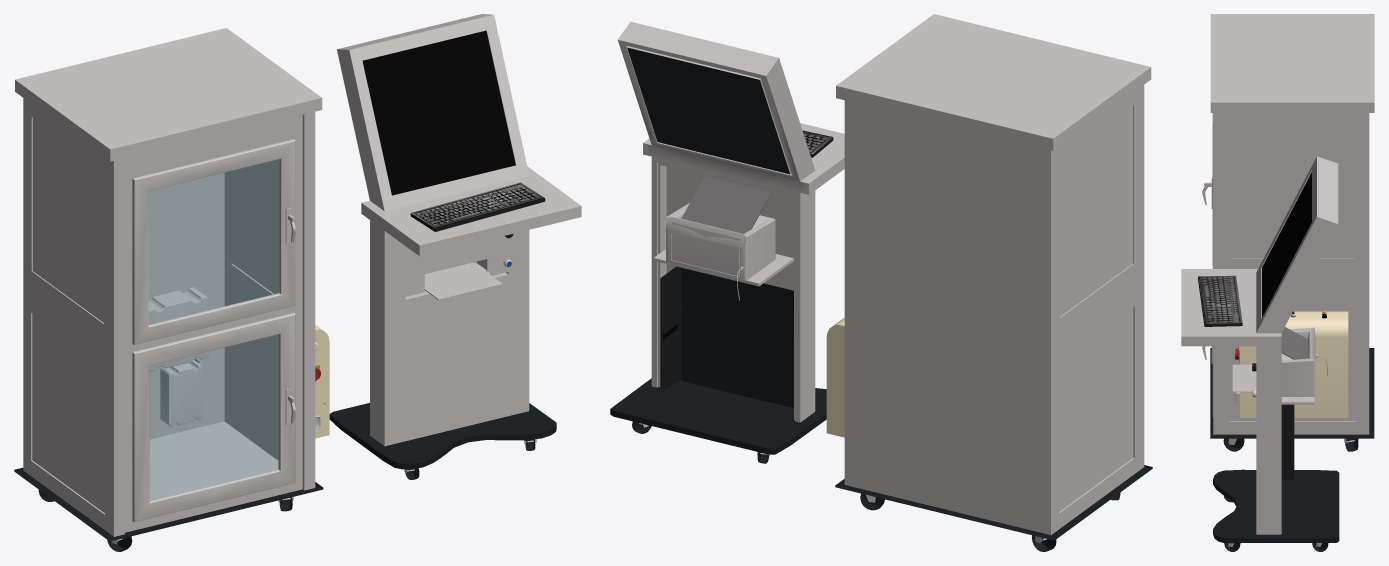
Rendered from electro spinning.obj.
The picture shows the model from 3 angles, left to right: view 1: azimuth 30°, elevation 25°; view 2: azimuth 150°, elevation 25°; view 3: azimuth 270°, elevation 25°; orthographic projection. The views are drawn at different scales.
Visible parts, largest first — view 1: Cube.021_Cube.026, Cube.016_Cube.021, Cube.043_Cube.004, Cube.017_Cube.022, Plane.006_Plane.010, Cube.027_Cube.042, Cube.020_Cube.025, Cube.026_Cube.041, Cube.024_Cube.034; view 2: Cube.021_Cube.026, Cube.016_Cube.021, Cube.019_Cube.024, Cube.017_Cube.022, Cube.020_Cube.025, Cube.024_Cube.034; view 3: Cube.021_Cube.026, Cube.016_Cube.021, Cube.017_Cube.022, Cube.024_Cube.034, Cube.020_Cube.025, Plane.006_Plane.010, Cube.019_Cube.024.
Part boxes in pixels (x1=…): Cube.021_Cube.026: x1=14, y1=28, x2=323, y2=551; Cube.016_Cube.021: x1=337, y1=14, x2=581, y2=479; Cube.043_Cube.004: x1=149, y1=159, x2=279, y2=500; Cube.017_Cube.022: x1=329, y1=403, x2=556, y2=469; Plane.006_Plane.010: x1=410, y1=182, x2=545, y2=231; Cube.027_Cube.042: x1=160, y1=360, x2=202, y2=426; Cube.020_Cube.025: x1=424, y1=258, x2=502, y2=300; Cube.026_Cube.041: x1=148, y1=287, x2=208, y2=371; Cube.024_Cube.034: x1=315, y1=325, x2=329, y2=438; Cube.021_Cube.026: x1=835, y1=14, x2=1152, y2=551; Cube.016_Cube.021: x1=618, y1=21, x2=844, y2=463; Cube.019_Cube.024: x1=660, y1=266, x2=793, y2=408; Cube.017_Cube.022: x1=610, y1=378, x2=826, y2=454; Cube.020_Cube.025: x1=666, y1=176, x2=775, y2=300; Cube.024_Cube.034: x1=826, y1=317, x2=844, y2=437; Cube.021_Cube.026: x1=1210, y1=14, x2=1374, y2=451; Cube.016_Cube.021: x1=1181, y1=156, x2=1338, y2=551; Cube.017_Cube.022: x1=1213, y1=469, x2=1339, y2=543; Cube.024_Cube.034: x1=1235, y1=310, x2=1348, y2=417; Cube.020_Cube.025: x1=1232, y1=327, x2=1327, y2=396; Plane.006_Plane.010: x1=1198, y1=275, x2=1242, y2=326; Cube.019_Cube.024: x1=1281, y1=404, x2=1294, y2=517.
Bounding box in the file's own units: 14.56 × 12.74 × 6.25.
2 materials, 1 textured.
